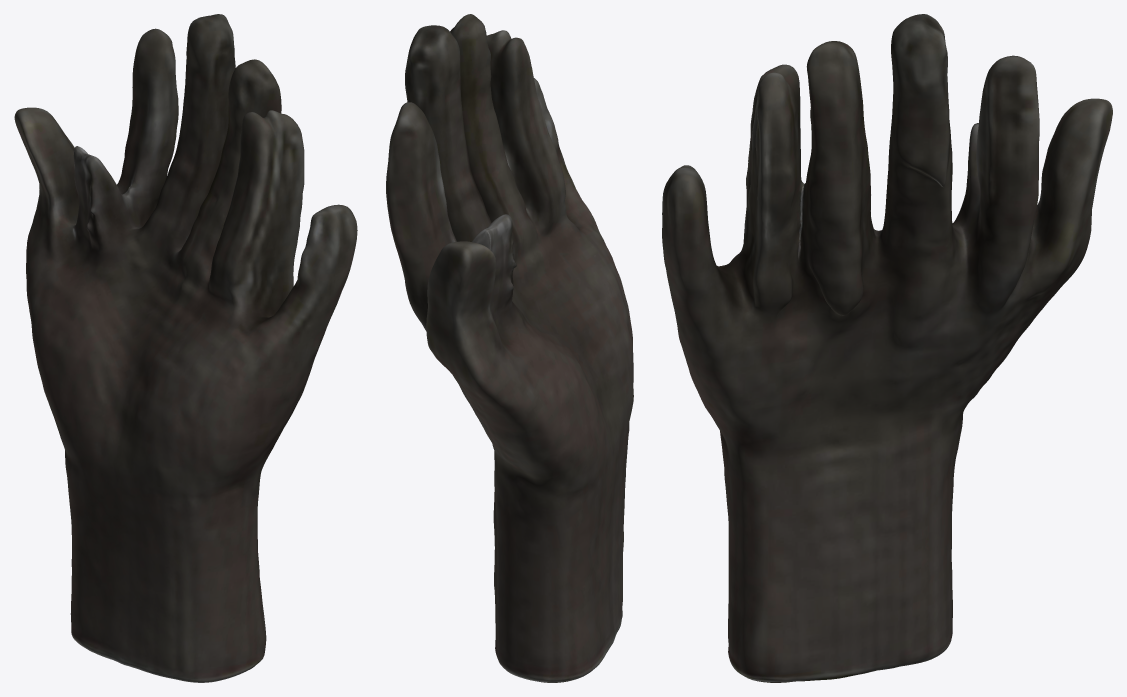
Rendered from a6ee6f82453c_sculpture_hands__3d.fbx.
3 renders of one model, left to right at view 1: azimuth 30°, elevation 25°; view 2: azimuth 150°, elevation 25°; view 3: azimuth 270°, elevation 25°, orthographic. The views are drawn at different scales.
Visible parts, largest first — view 1: high_poly; view 2: high_poly; view 3: high_poly.
Part boxes in pixels (box(x1,y1,x2,y2)): high_poly: box(14, 14, 357, 682); high_poly: box(386, 14, 633, 682); high_poly: box(662, 14, 1112, 682).
Bounding box in the file's own units: 33.52 × 100 × 59.76.
